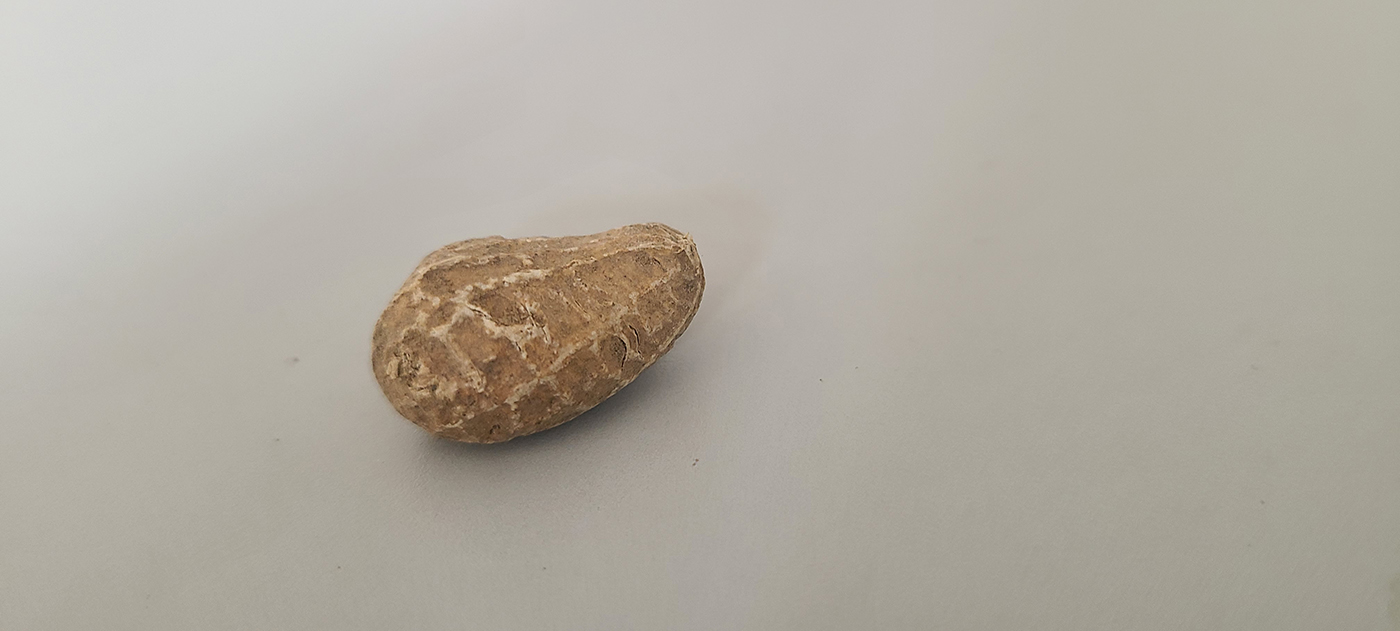h: (364, 216, 711, 454)
